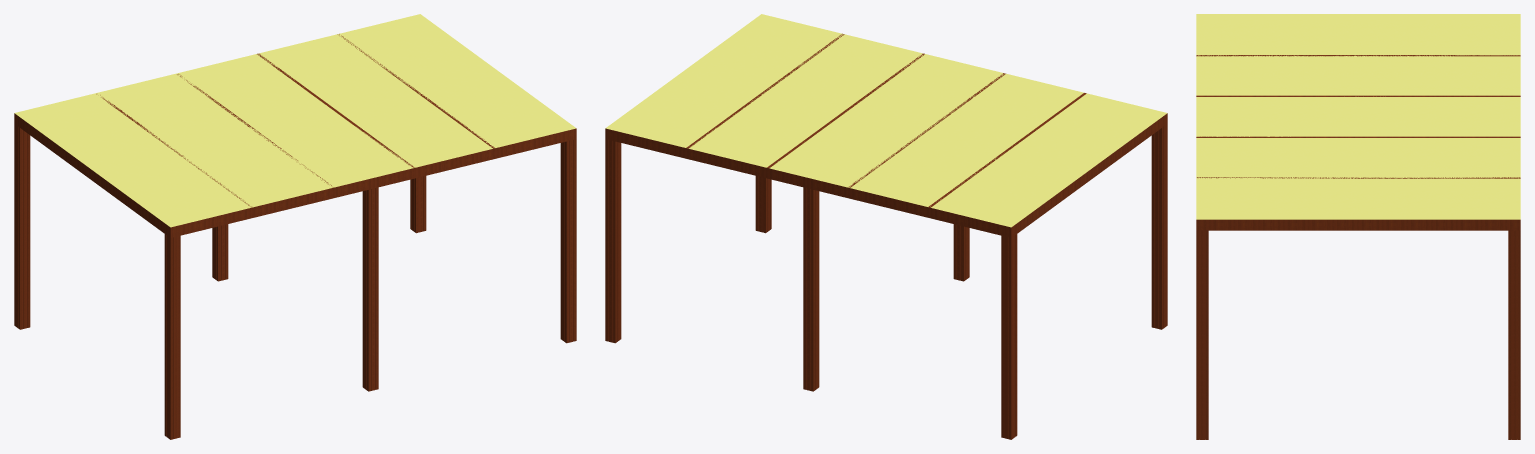
Rendered from 00_Wood Pergola-4x6-Mordern-M0824.gltf.
3 views of the same model, side by side, from view 1: azimuth 30°, elevation 25°; view 2: azimuth 150°, elevation 25°; view 3: azimuth 270°, elevation 25° (orthographic). The views are drawn at different scales.
Visible parts, largest first — view 1: Generic_Models_Fabric_PVC-1000mm_Beige_4x6_-_D08016242, Generic_Models_Post-15x15x4-Hollow_Wood_Pergola_Post_3000mm_ (×6), Generic_Models_Beam-15x4-Solid_Wood_Pergola_Beam-6000mm_-_D0, Generic_Models_Beam-15x4-Solid_Wood_Pergola_Beam-4000mm_-_D0; view 2: Generic_Models_Fabric_PVC-1000mm_Beige_4x6_-_D08016242, Generic_Models_Post-15x15x4-Hollow_Wood_Pergola_Post_3000mm_ (×6), Generic_Models_Beam-15x4-Solid_Wood_Pergola_Beam-6000mm_-_D0, Generic_Models_Beam-15x4-Solid_Wood_Pergola_Beam-4000mm_-_D0; view 3: Generic_Models_Fabric_PVC-1000mm_Beige_4x6_-_D08016242, Generic_Models_Beam-15x4-Solid_Wood_Pergola_Beam-4000mm_-_D0 (×5), Generic_Models_Post-15x15x4-Hollow_Wood_Pergola_Post_3000mm_ (×2).
Part boxes in pixels (x1,y1,x2,y2): Generic_Models_Fabric_PVC-1000mm_Beige_4x6_-_D08016242: (14, 14, 576, 227); Generic_Models_Post-15x15x4-Hollow_Wood_Pergola_Post_3000mm_ (×6): (14, 115, 576, 439); Generic_Models_Beam-15x4-Solid_Wood_Pergola_Beam-6000mm_-_D0: (169, 129, 573, 237); Generic_Models_Beam-15x4-Solid_Wood_Pergola_Beam-4000mm_-_D0: (16, 114, 173, 237); Generic_Models_Fabric_PVC-1000mm_Beige_4x6_-_D08016242: (605, 14, 1167, 227); Generic_Models_Post-15x15x4-Hollow_Wood_Pergola_Post_3000mm_ (×6): (605, 124, 1167, 439); Generic_Models_Beam-15x4-Solid_Wood_Pergola_Beam-6000mm_-_D0: (605, 128, 1012, 237); Generic_Models_Beam-15x4-Solid_Wood_Pergola_Beam-4000mm_-_D0: (1013, 114, 1165, 236); Generic_Models_Fabric_PVC-1000mm_Beige_4x6_-_D08016242: (1196, 14, 1520, 219); Generic_Models_Beam-15x4-Solid_Wood_Pergola_Beam-4000mm_-_D0 (×5): (1196, 55, 1520, 230); Generic_Models_Post-15x15x4-Hollow_Wood_Pergola_Post_3000mm_ (×2): (1196, 219, 1520, 439).
Size of the model in its own units: 6 by 3 by 4.
Materials: 2 (2 with a texture image).
